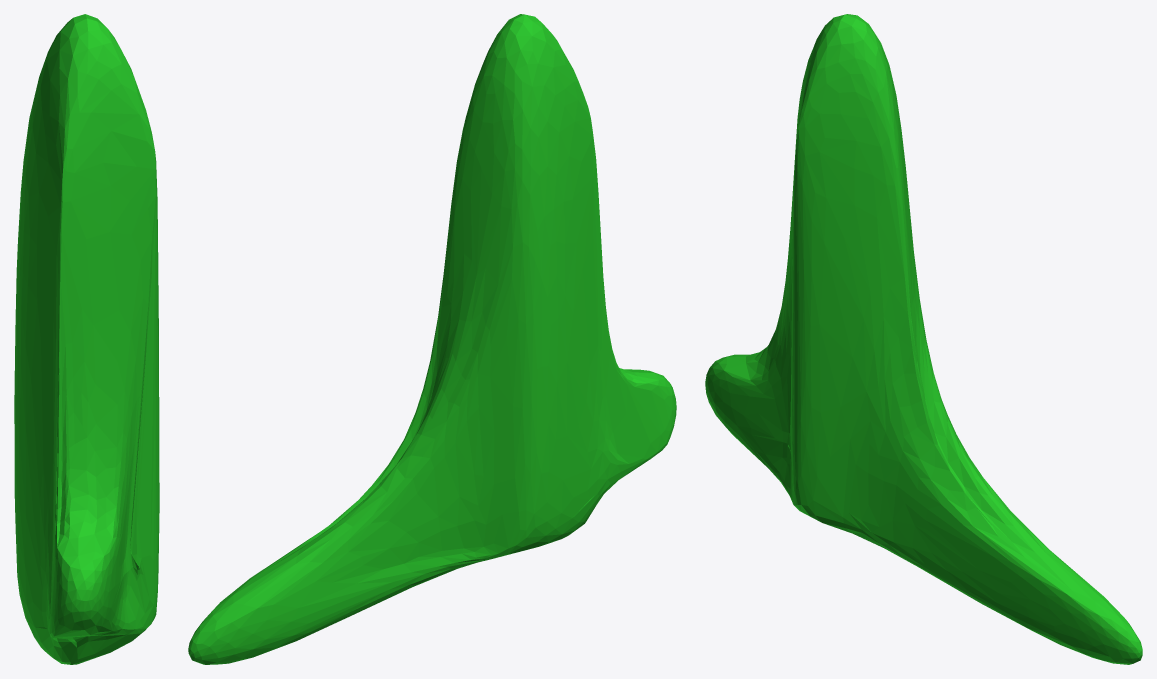
3 renders of one model, left to right at view 1: azimuth 30°, elevation 25°; view 2: azimuth 150°, elevation 25°; view 3: azimuth 270°, elevation 25°, orthographic. The views are drawn at different scales.
Visible parts, largest first — view 1: 365_Cube.1493; view 2: 365_Cube.1493; view 3: 365_Cube.1493.
Boxes of the visible parts, x1,y1,x2,y2 form: 365_Cube.1493: (14, 14, 159, 664); 365_Cube.1493: (188, 14, 676, 664); 365_Cube.1493: (705, 14, 1142, 664).
Size of the model in its own units: 6.23 by 12.84 by 8.94.
